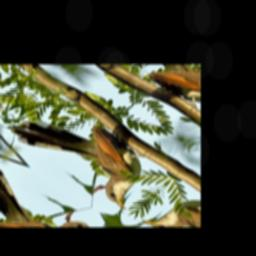Cuckoo: (6, 92, 169, 211)
